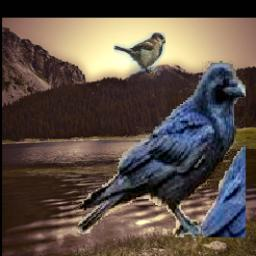Crow: (73, 61, 247, 237)
Sparrow: (113, 32, 165, 76)
